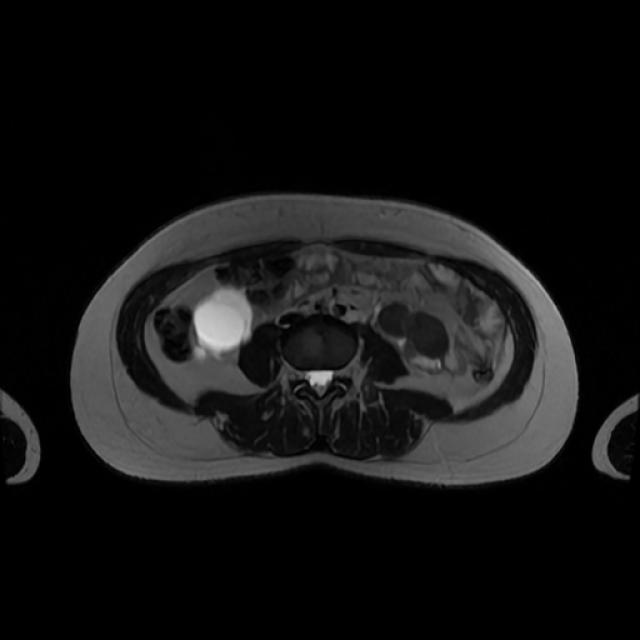sag: (192, 285, 255, 365)
